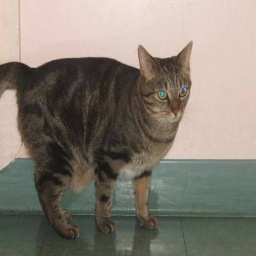cat: (1, 41, 196, 241)
